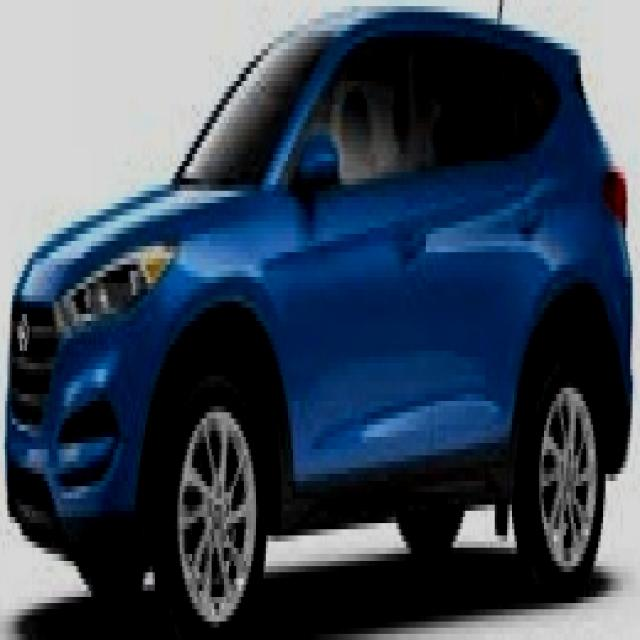blue: (5, 5, 633, 628)
